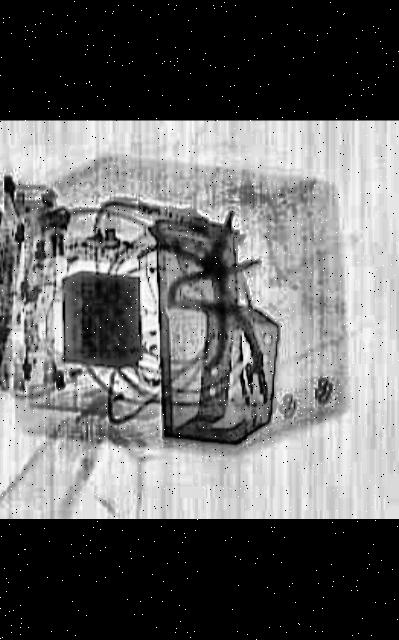Pliers: (72, 189, 332, 372)
